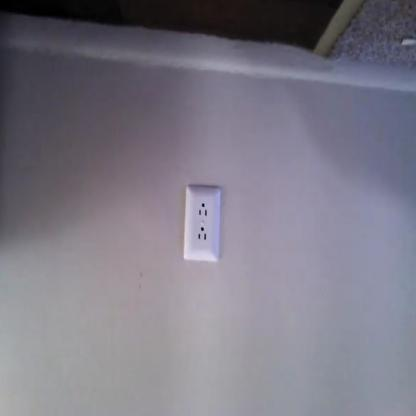OUTLET: (182, 184, 223, 262)
